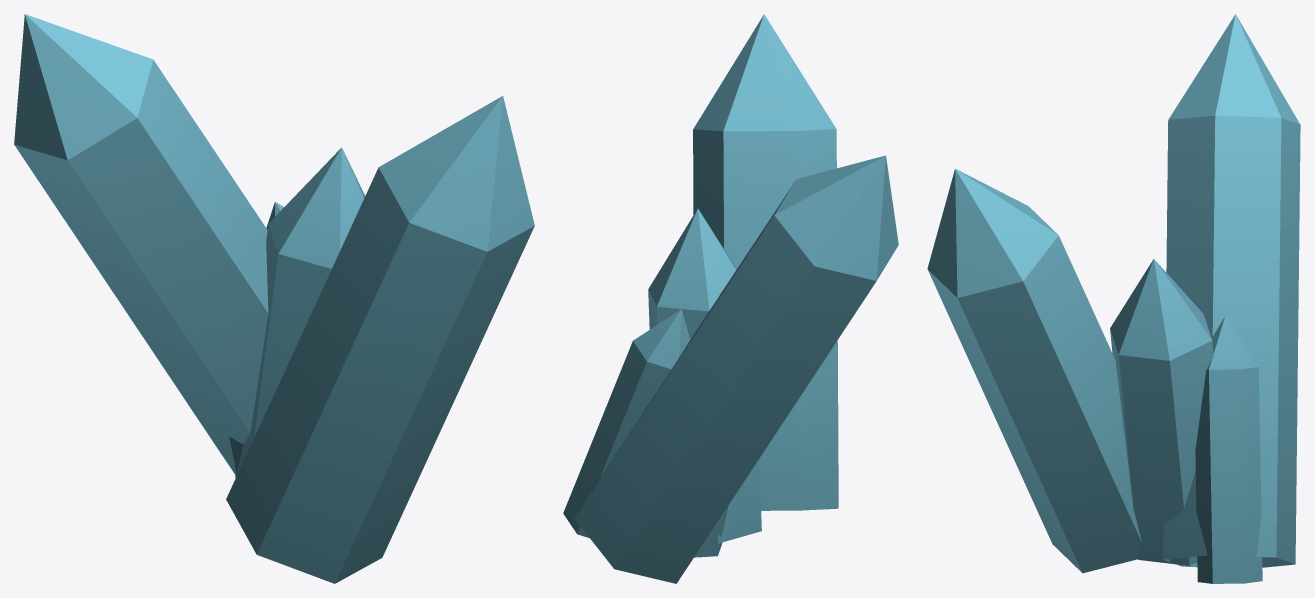
The model's file is crystals_b.glb.
The picture shows the model from 3 angles, left to right: view 1: azimuth 30°, elevation 25°; view 2: azimuth 150°, elevation 25°; view 3: azimuth 270°, elevation 25°; orthographic projection. The views are drawn at different scales.
Parts seen in each view (by area): view 1: Crystals_deco; view 2: Crystals_deco; view 3: Crystals_deco.
Part boxes in pixels (bbox=[...]): Crystals_deco: bbox=[14, 14, 534, 583]; Crystals_deco: bbox=[563, 14, 898, 583]; Crystals_deco: bbox=[927, 14, 1300, 583].
Size of the model in its own units: 3.25 by 4.62 by 3.4.
